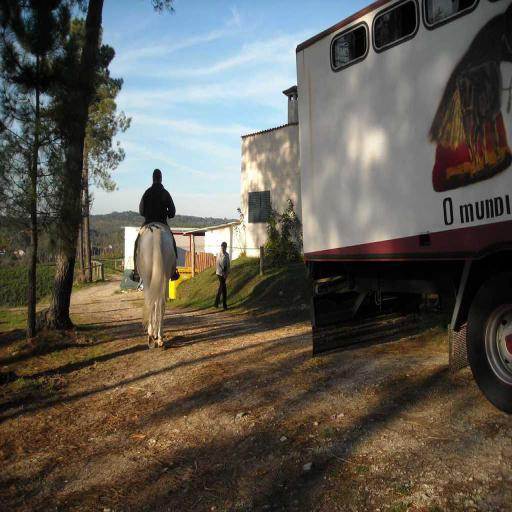horse: (134, 222, 178, 350)
